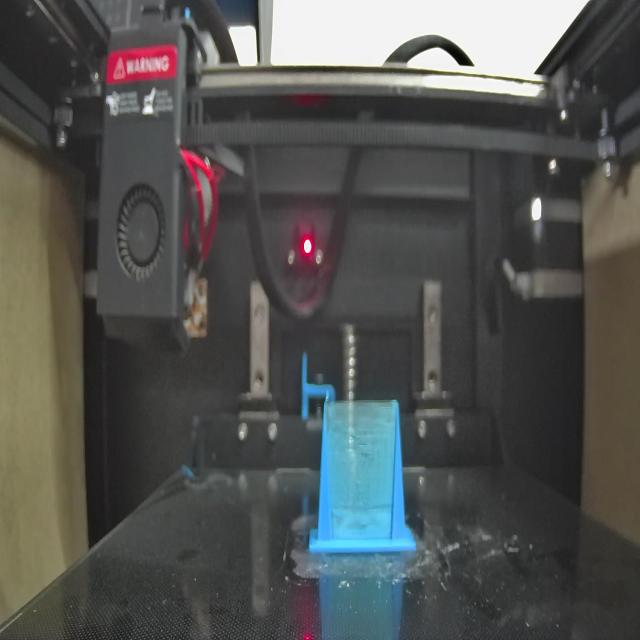stringing: (324, 402, 396, 536)
